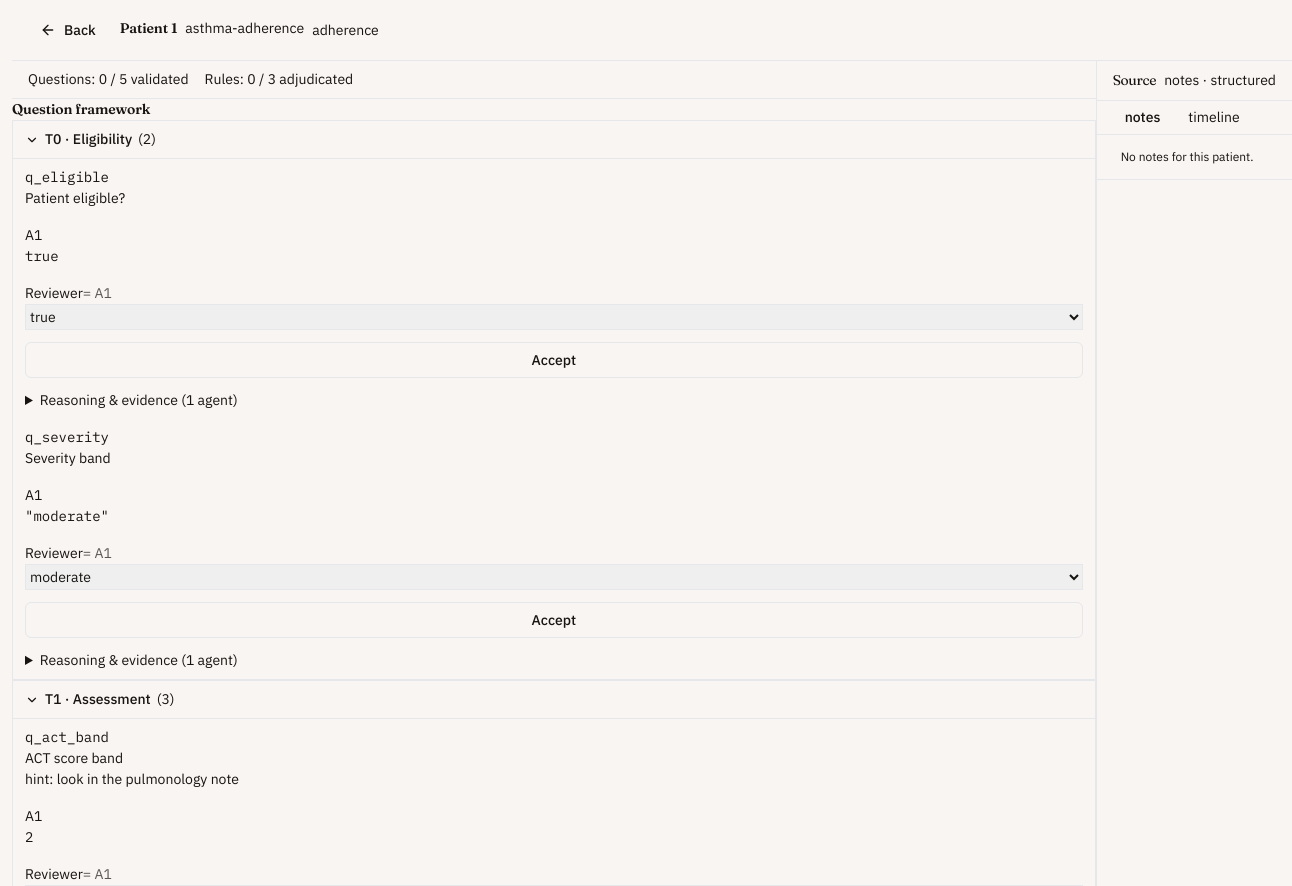
Test: Question override — enum › (d) POST error surfaces the message without crashing
The width and height of the screenshot is (1292, 886).
Expected: the button "T0 · Eligibility (2)" is shown, [13,121,1095,158]
Select "severe" in the dropdown below "\"moderate\"" at (554, 577), box [25,564,1083,590]
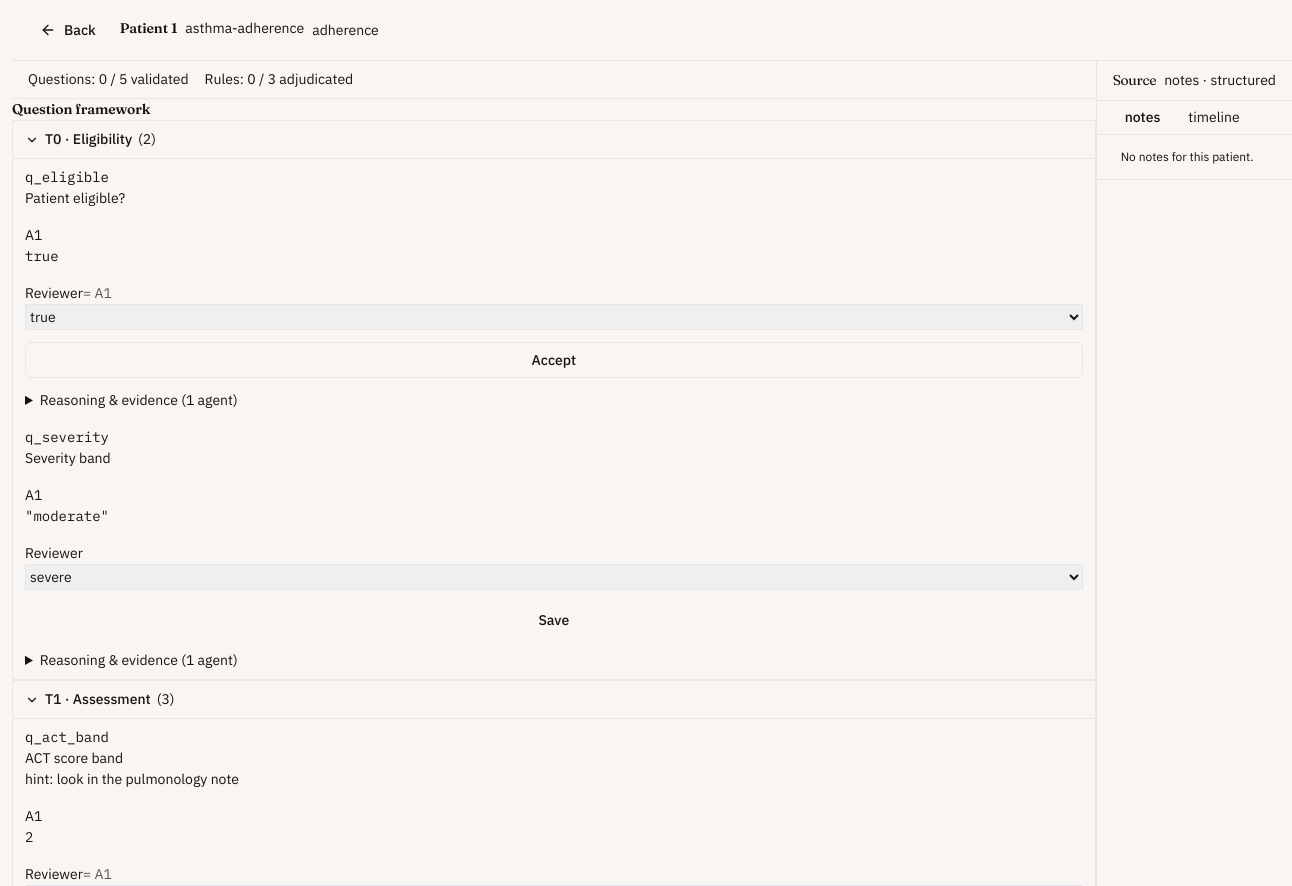
Click the button "Save" at (554, 620), box [25,602,1083,638]
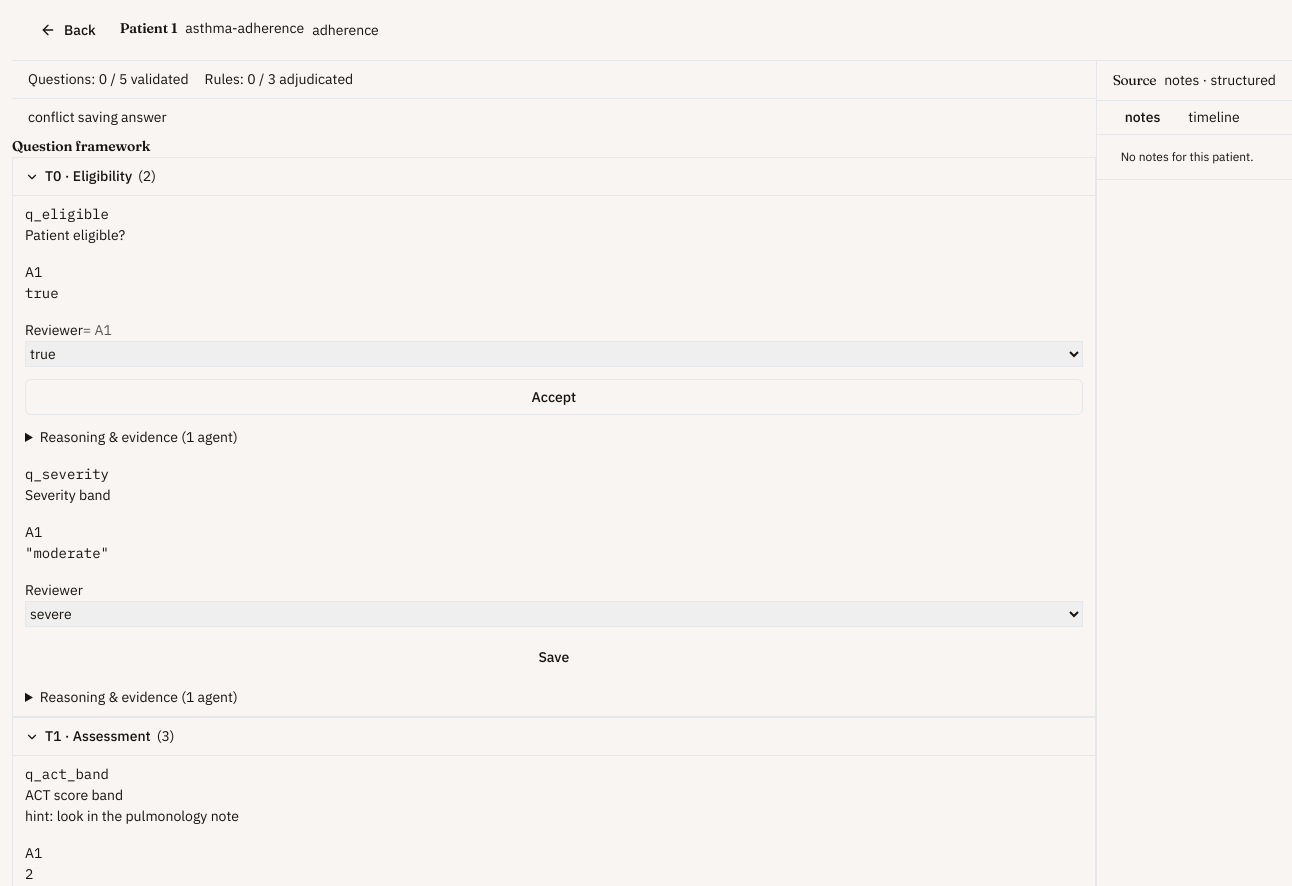
Expected: the text "q_severity" is shown, [25,464,109,485]
Result: the text "conflict saving answer" is shown at [28,108,167,126]
